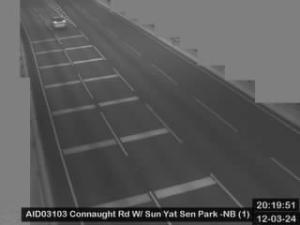vehicle: (52, 14, 68, 30)
